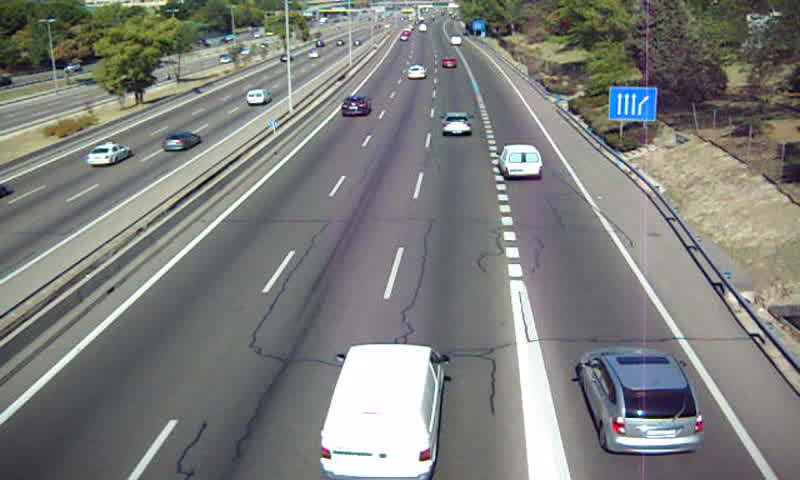car: (581, 347, 701, 453), (442, 112, 472, 138), (340, 94, 371, 116), (406, 63, 426, 80), (442, 57, 458, 69)
van: (320, 343, 444, 480), (500, 145, 542, 180)
